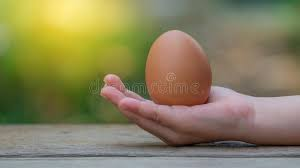egg: (146, 30, 213, 106)
